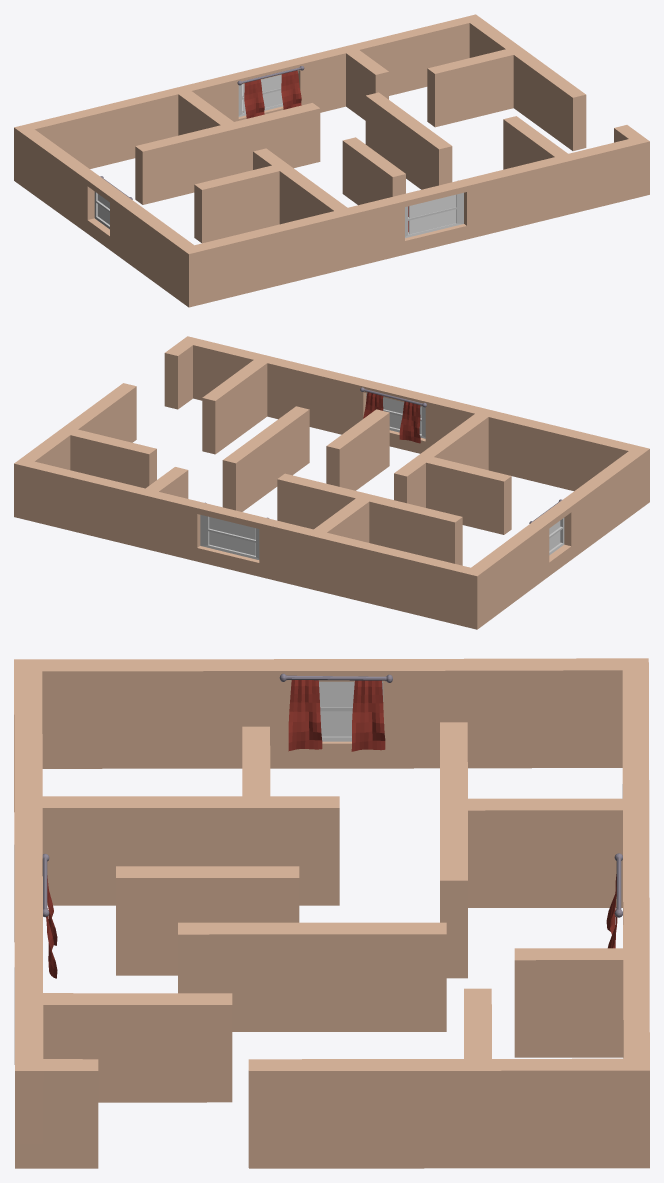
Rendered from Level 5.fbx.
3 views of the same model, one above another, from view 1: azimuth 30°, elevation 25°; view 2: azimuth 150°, elevation 25°; view 3: azimuth 270°, elevation 25° (orthographic). The views are drawn at different scales.
Visible parts, largest first — view 1: polySurface63, polySurface50, pasted__wind1, pasted__pasted__clowt1; view 2: polySurface63, pasted__wind1, polySurface50, pasted__pasted__clowt1; view 3: polySurface63, pasted__pasted__clowt1, pasted__wind1, polySurface50.
Part boxes in pixels (x1,y1,x2,y2): polySurface63: (14, 14, 649, 307); polySurface50: (237, 66, 304, 118); pasted__wind1: (405, 192, 463, 238); pasted__pasted__clowt1: (94, 176, 132, 229); polySurface63: (14, 336, 649, 629); pasted__wind1: (360, 387, 426, 443); polySurface50: (200, 502, 268, 559); pasted__pasted__clowt1: (529, 499, 564, 555); polySurface63: (14, 658, 649, 1168); pasted__pasted__clowt1: (279, 673, 392, 751); pasted__wind1: (42, 853, 57, 978); polySurface50: (606, 853, 622, 948).
Bounding box in the file's own units: 154 × 16.93 × 99.98.
